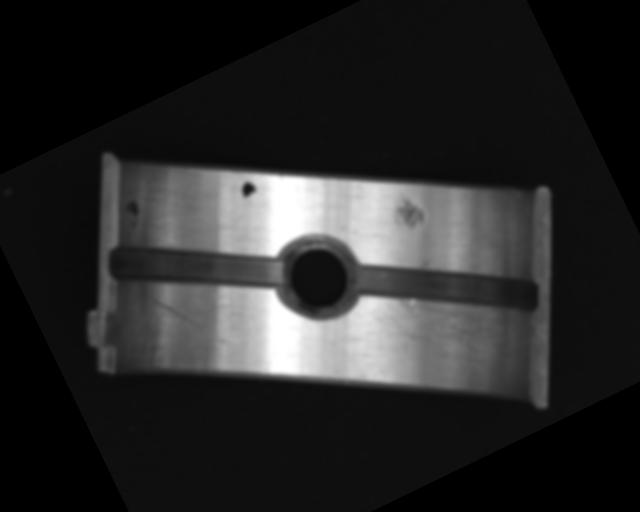blot: (120, 197, 144, 226), (237, 178, 260, 204)
bruise: (388, 187, 429, 233)
gap: (349, 199, 545, 373), (101, 184, 289, 348)
hole: (263, 221, 371, 331)
nick: (147, 272, 232, 370)
scratch: (367, 246, 520, 396)
